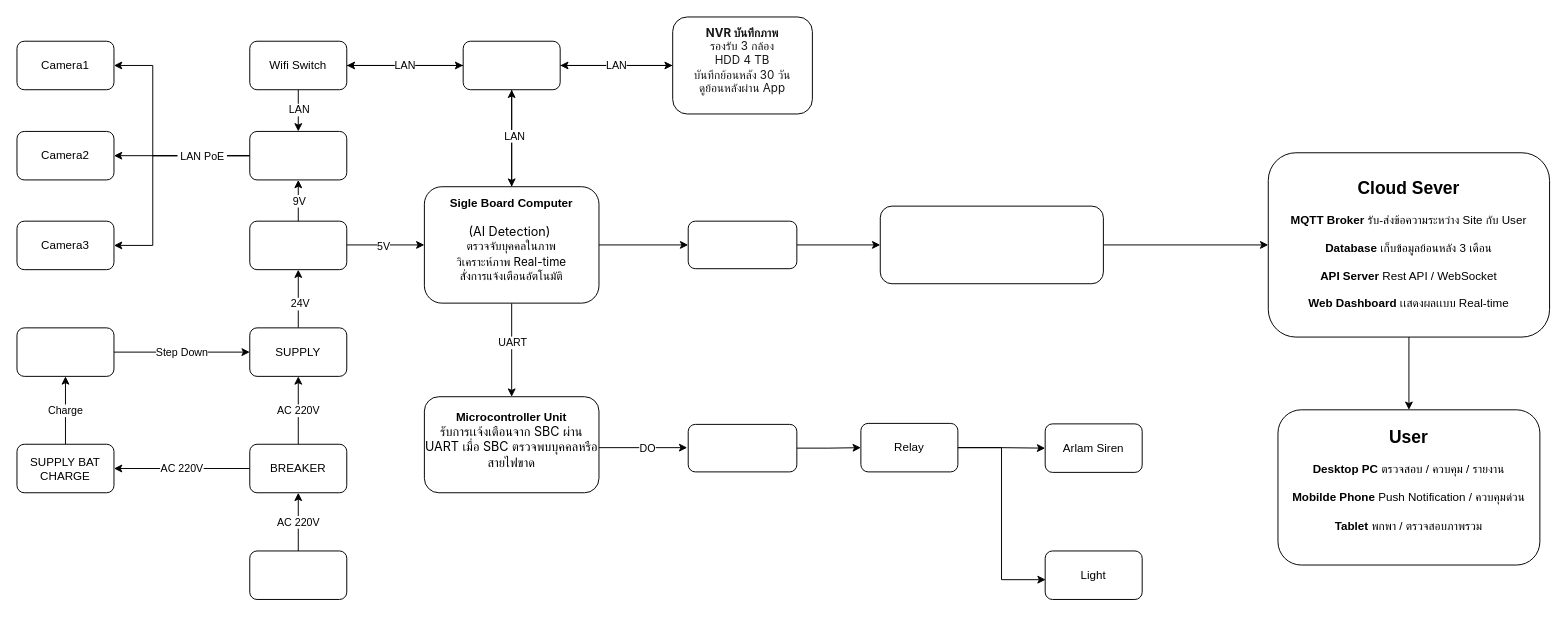
Some shapes in this 1567 by 617 pixel diagram are drawn without their labels. Each missing label, with the centre of its shape:
"ALERT NOTIFICATION" goes at pixel 742 244.
"ALERT OUTPUT" goes at pixel 742 447.
"BATTERY" goes at pixel 65 351.
"Gateway SBC ( MQTT / DATABASE / WIFI )" goes at pixel 991 244.
"INPUT AC 1 PHASE" goes at pixel 298 574.
"Poe" goes at pixel 298 155.
"Stepdown" goes at pixel 298 245.
"WiFi Box" goes at pixel 511 65.
